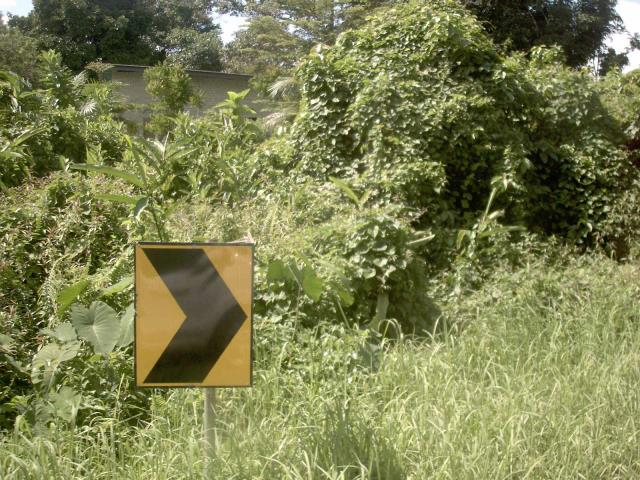traffic_sign: (118, 227, 267, 405)
